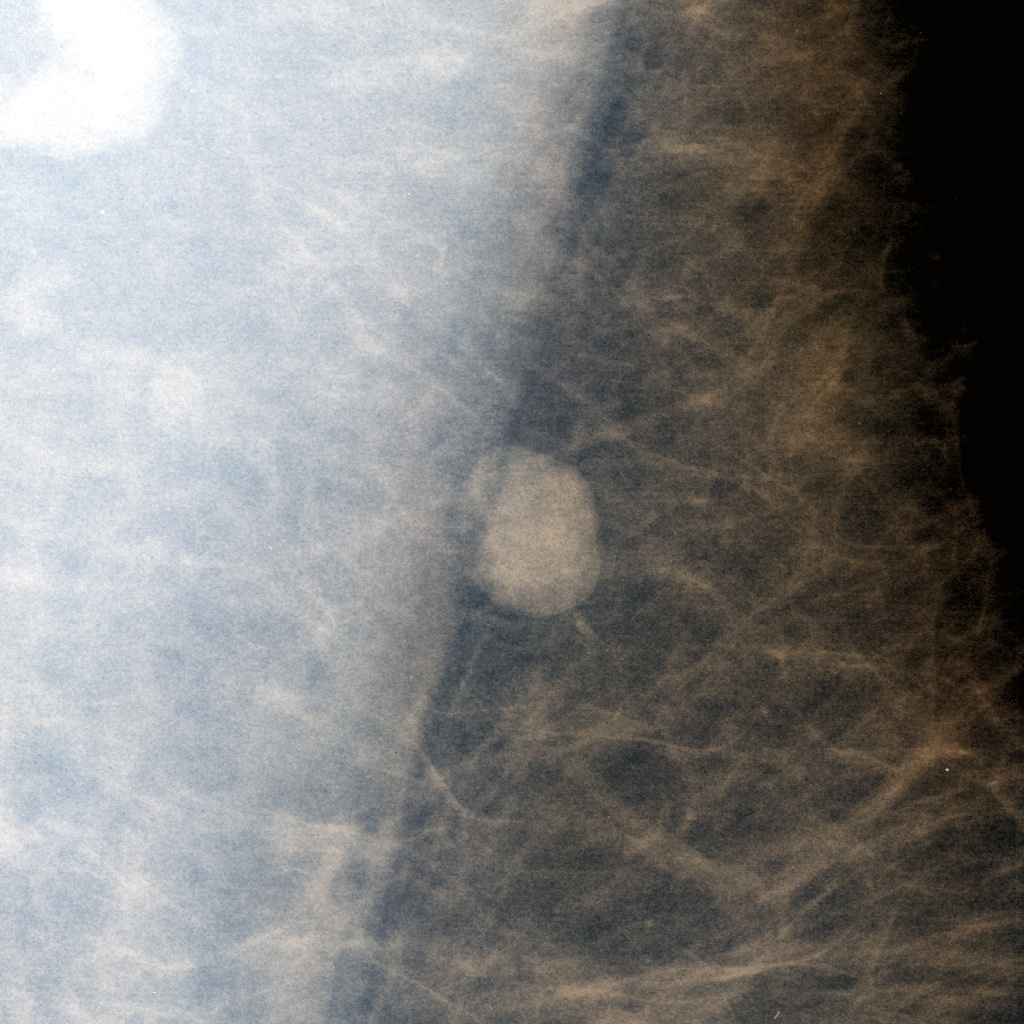tumor: (415, 405, 609, 619)
